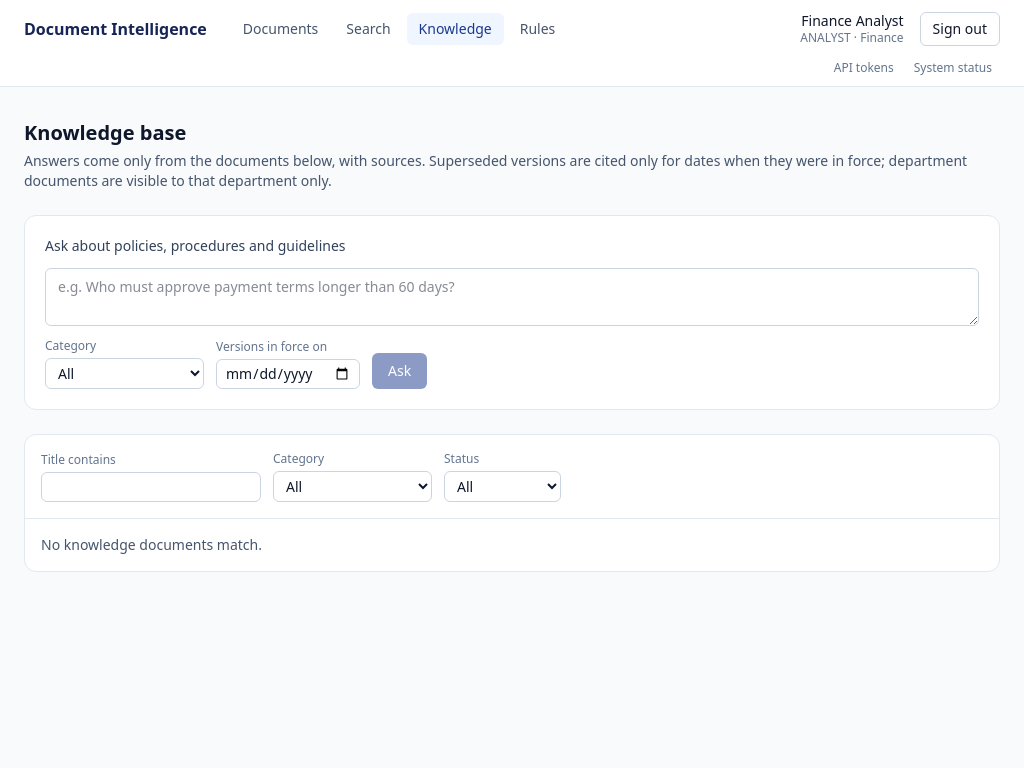
Test: knowledge base › says when the knowledge base has no answer
Type "What is the dress code?" into the text box labelled "Ask about policies, procedures and guidelines".
click(512, 297); type("What is the dress code?")  # box top-left (45, 268), bottom-right (979, 326)
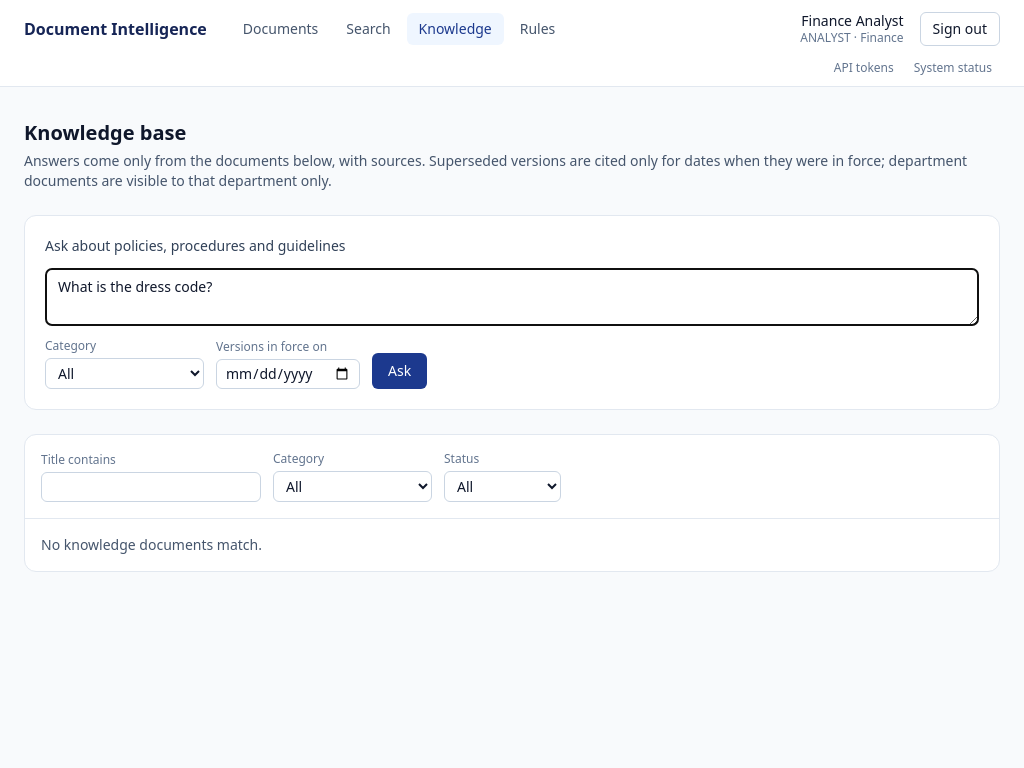
Click the button "Ask".
click(400, 371)  # box top-left (372, 353), bottom-right (427, 389)
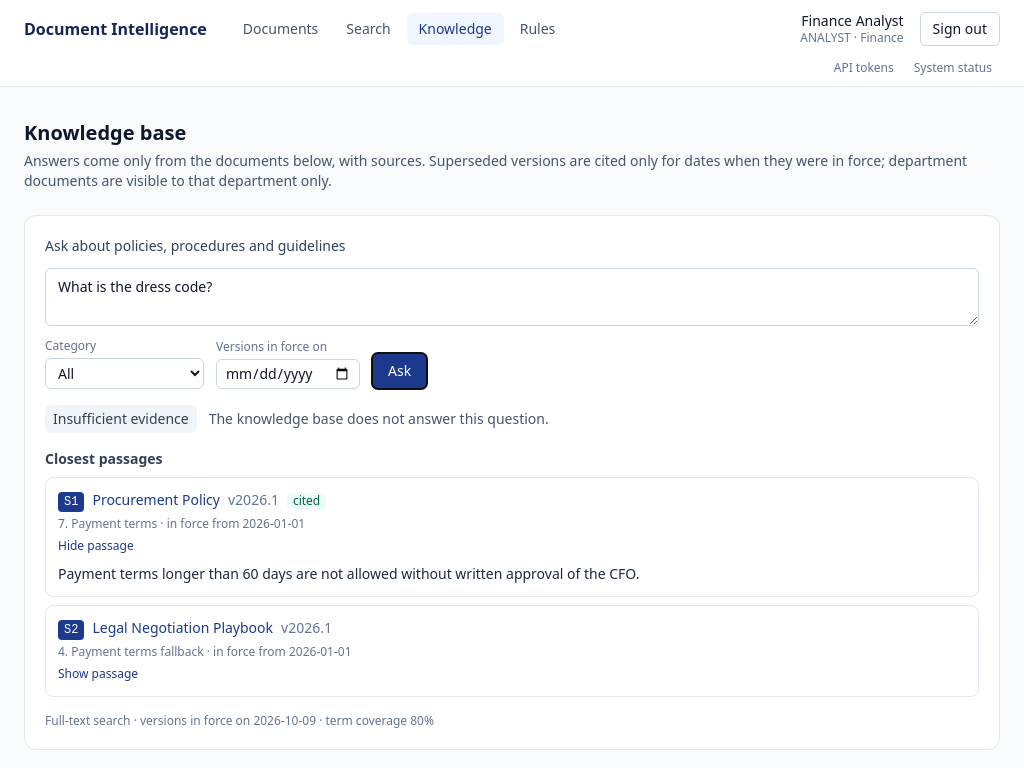
expect the text "Insufficient evidence" is shown: met, box top-left (45, 405), bottom-right (197, 433)
expect the heading "Closest passages" is shown: met, box top-left (45, 449), bottom-right (162, 468)
